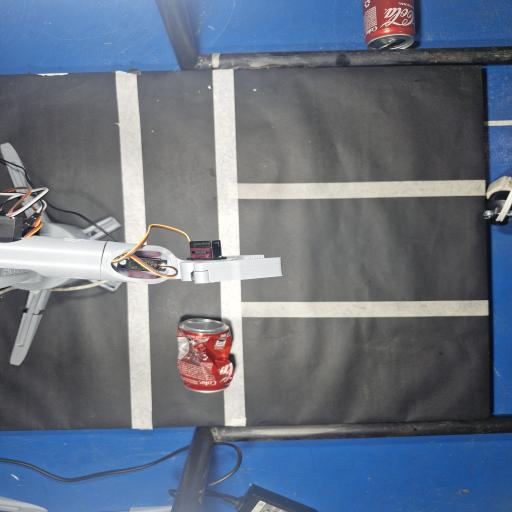lata_defectuoso: (177, 319, 233, 392)
